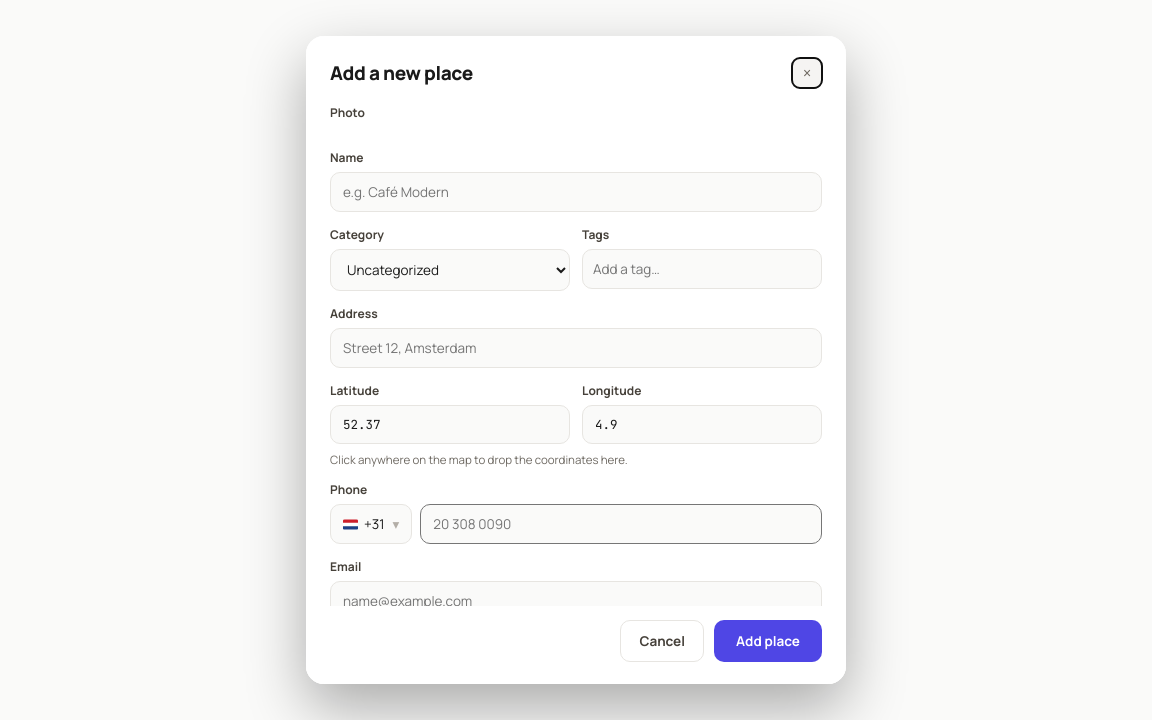
Test: PoiFormModal › surfaces a backend error instead of failing silently
Type "Boom" into the field labelled "Name" at (576, 192), box [330,172,822,212]
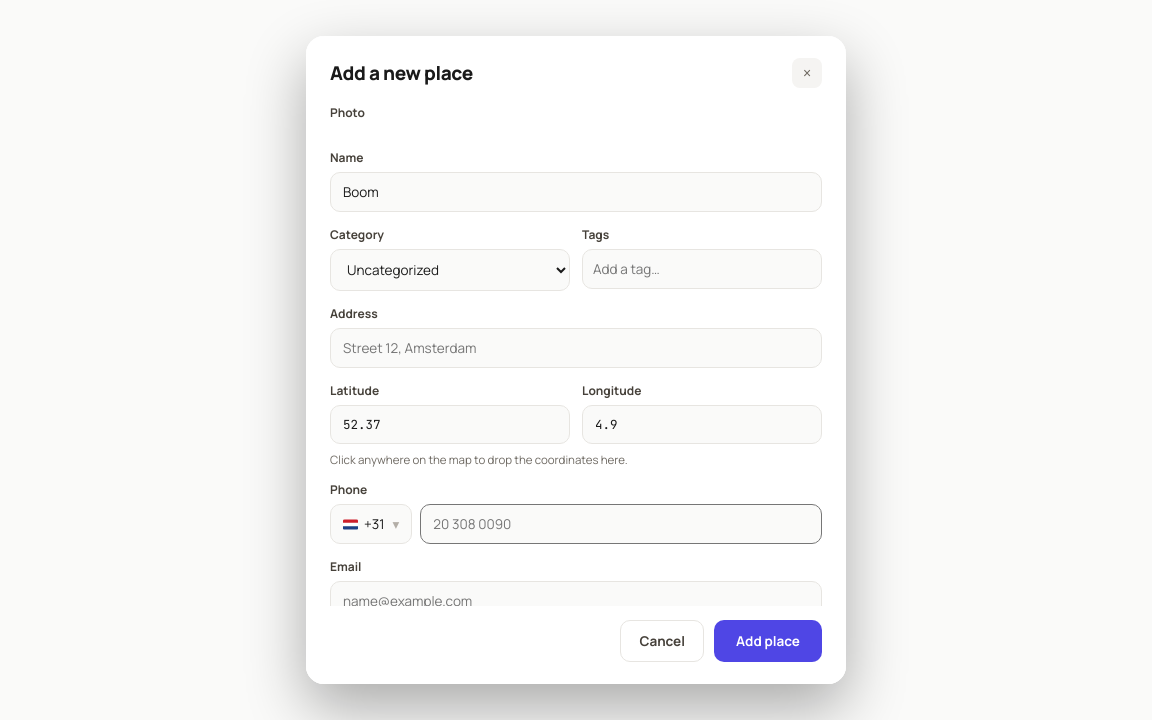
Click the button "Add place" at (768, 641), box [714,620,822,662]
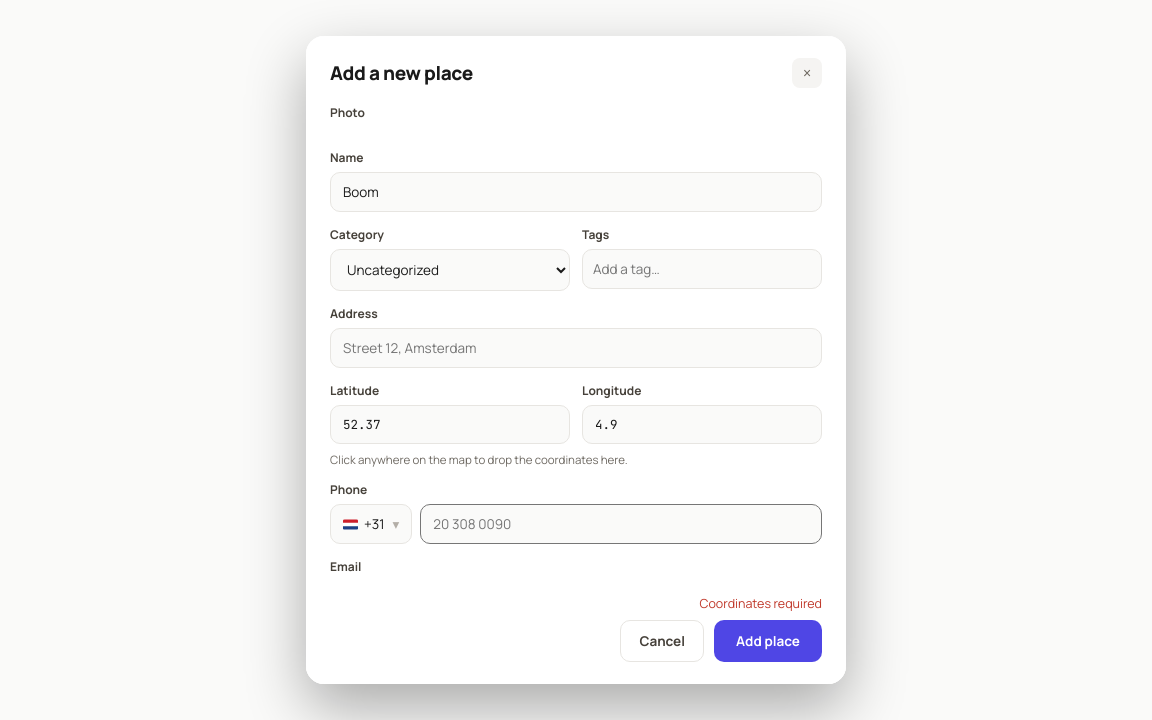
Now the text "Coordinates required" is shown, box [700,595,822,612]
